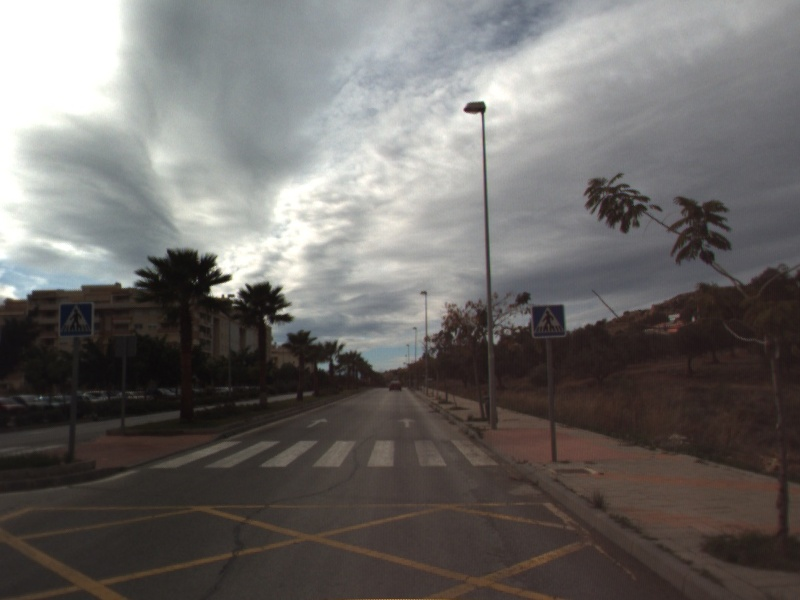STRAIGHT: (304, 415, 330, 430), (395, 415, 418, 429)
